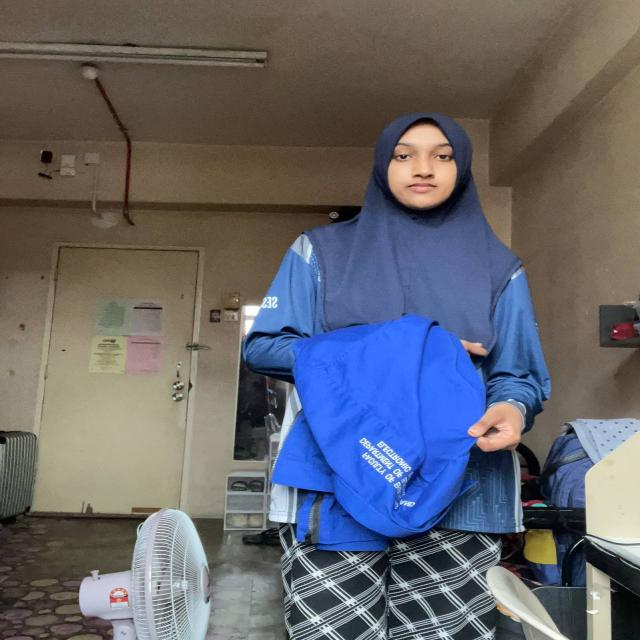person_without_labcoat: (244, 114, 549, 640)
